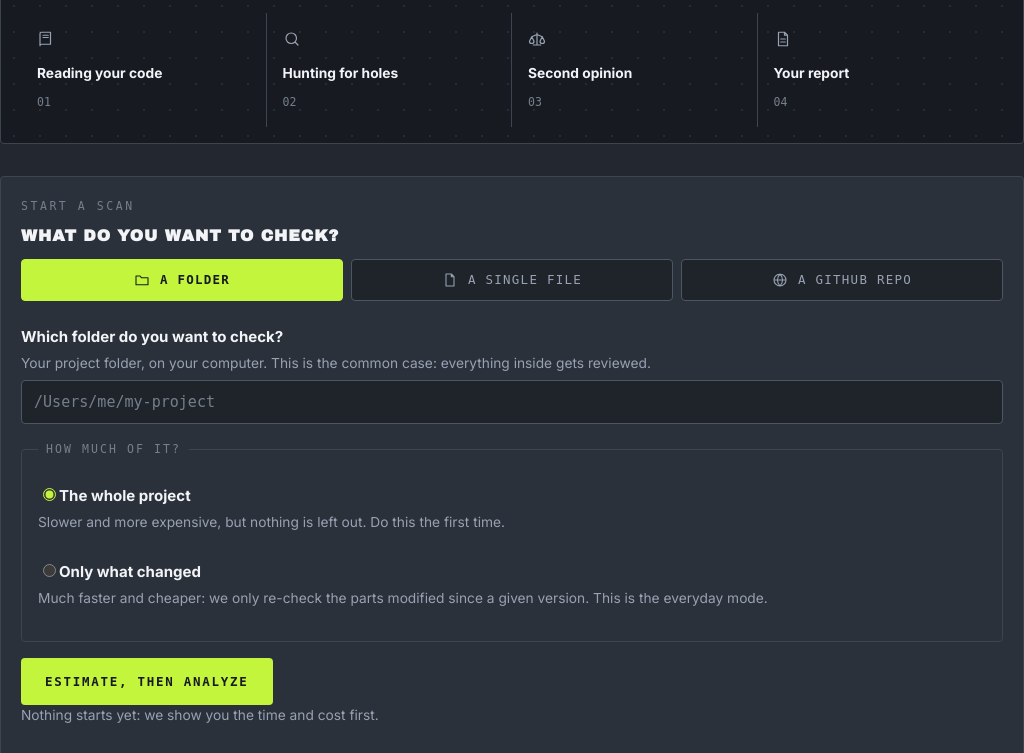
Test: a sentence produced by a button lands in a live region that pre-exists it › the Code tab — « reading your code to price the work »
This screenshot has width=1024, height=753.
Type "/srv/orders-api" into the field labelled "Which folder" at (512, 402), box x1=21 y1=380 x2=1003 y2=424
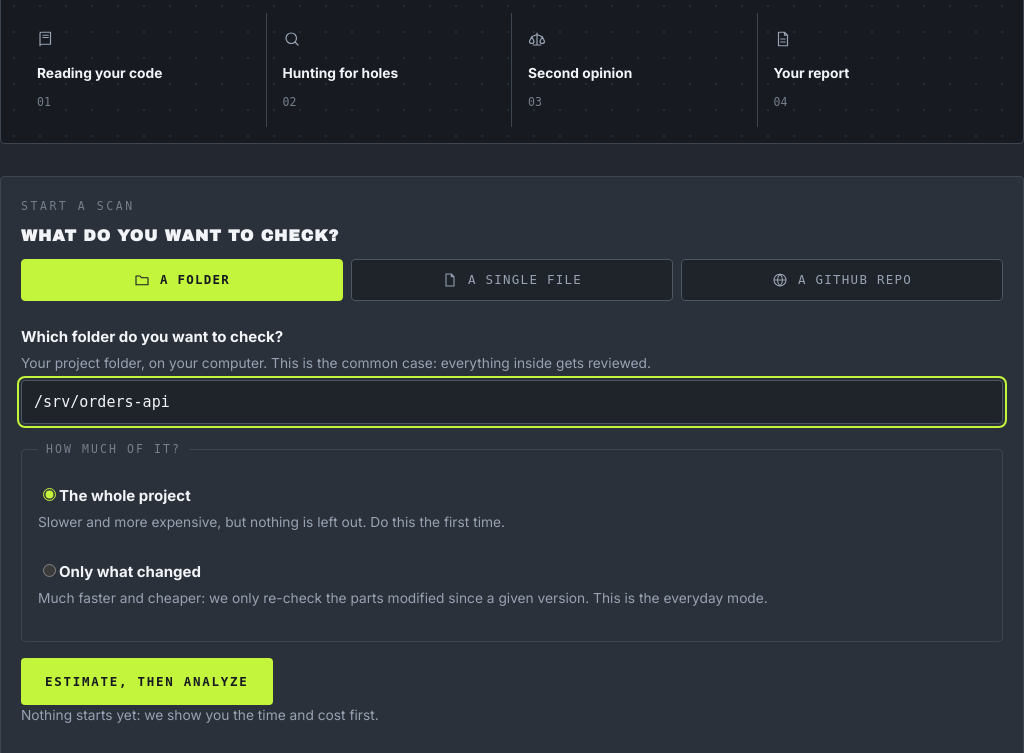
Click the button "Estimate, then analyze" at (147, 682), box x1=21 y1=658 x2=273 y2=705
(page scrolled)
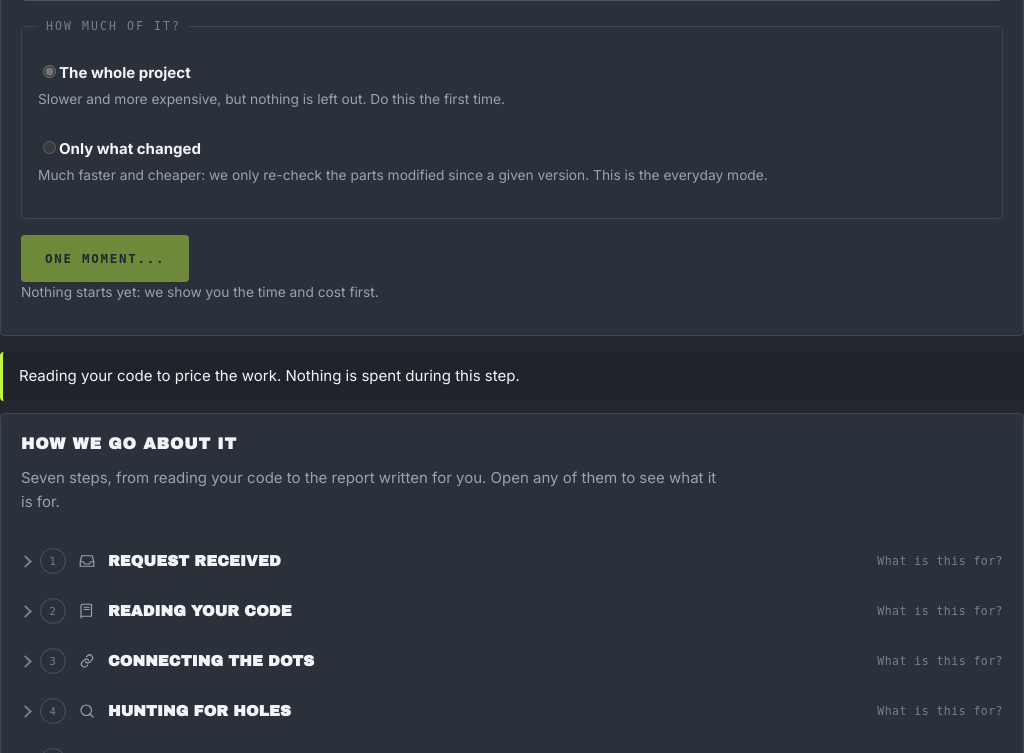
Expected: the message "Reading your code to price the work. Nothing is spent during this step." is shown, x1=0 y1=352 x2=1023 y2=401
